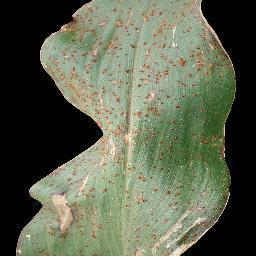Corn_Common_Rust: (111, 0, 236, 256), (39, 0, 111, 125), (41, 147, 94, 255), (94, 124, 112, 256), (17, 179, 41, 256)
